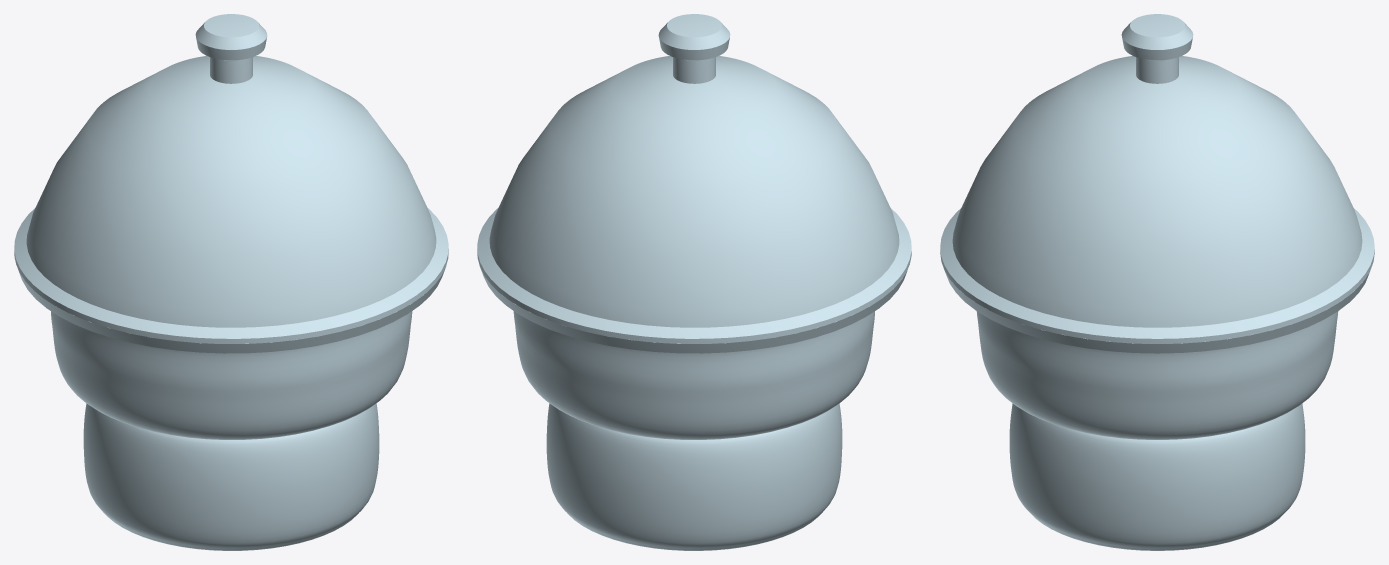
The model's file is desiccator.glb.
3 views of the same model, side by side, from view 1: azimuth 30°, elevation 25°; view 2: azimuth 150°, elevation 25°; view 3: azimuth 270°, elevation 25° (orthographic).
Visible parts, largest first — view 1: Lid, Desiccator; view 2: Lid, Desiccator; view 3: Lid, Desiccator.
Boxes of the visible parts, <box> form: Lid: <box>14,14,448,343</box>; Desiccator: <box>14,254,448,550</box>; Lid: <box>477,14,911,343</box>; Desiccator: <box>477,254,911,550</box>; Lid: <box>940,14,1374,343</box>; Desiccator: <box>945,272,1369,550</box>.
Bounding box in the file's own units: 0.212 × 0.2554 × 0.212.
